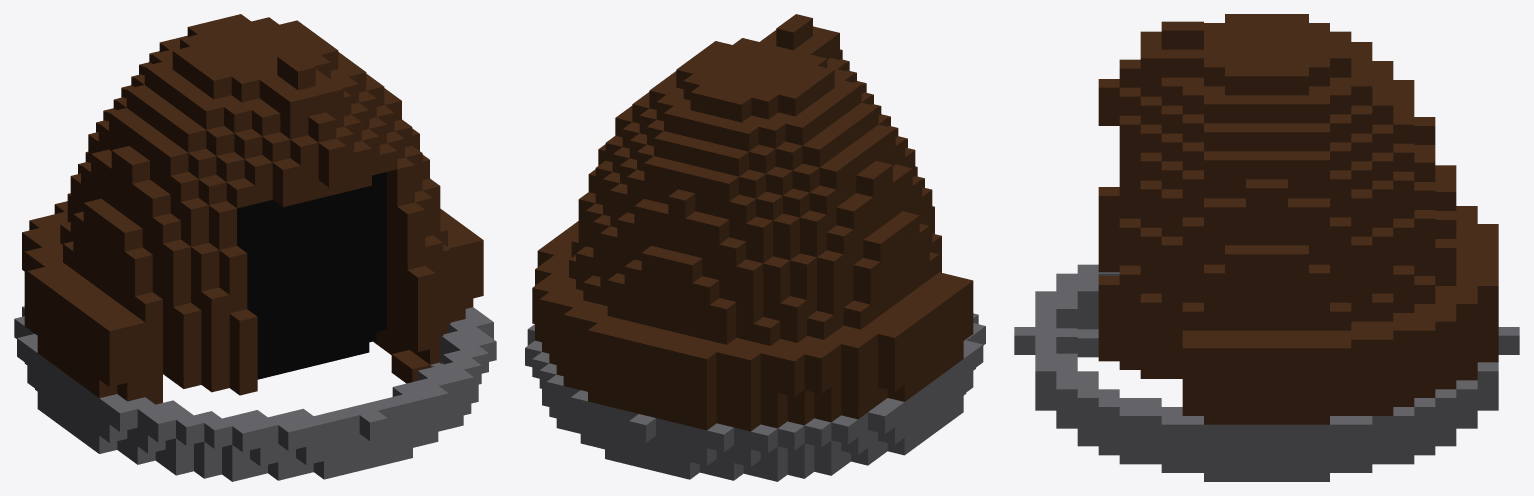
File: mystic_uncommon_helmet_lod1.glb
3 renders of one model, left to right at view 1: azimuth 30°, elevation 25°; view 2: azimuth 150°, elevation 25°; view 3: azimuth 270°, elevation 25°, orthographic. The views are drawn at different scales.
Visible parts, largest first — view 1: mystic_uncommon_helmet_lod1; view 2: mystic_uncommon_helmet_lod1; view 3: mystic_uncommon_helmet_lod1.
Boxes of the visible parts, <box> form: mystic_uncommon_helmet_lod1: <box>14,14,496,481</box>; mystic_uncommon_helmet_lod1: <box>525,14,985,481</box>; mystic_uncommon_helmet_lod1: <box>1014,14,1519,481</box>.
Size of the model in its own units: 0.504 by 0.456 by 0.576.
